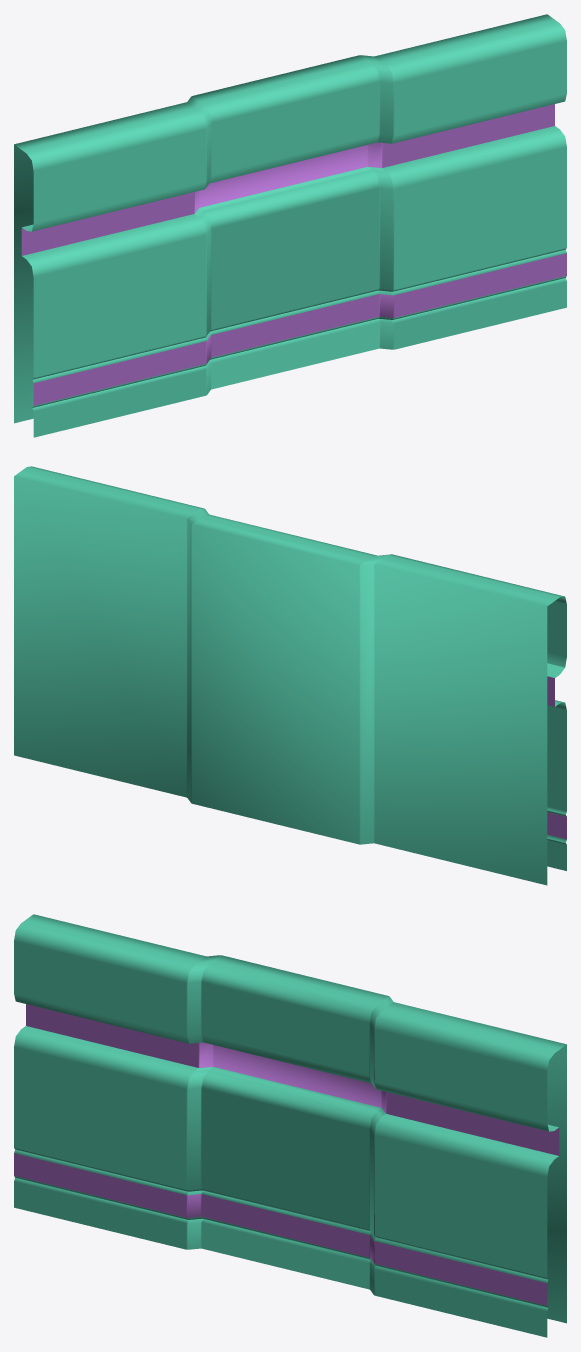
File: Wall_01.FBX
3 views of the same model, one above another, from view 1: azimuth 30°, elevation 25°; view 2: azimuth 150°, elevation 25°; view 3: azimuth 330°, elevation 25° (orthographic).
Parts seen in each view (by area): view 1: Box005; view 2: Box005; view 3: Box005.
Part boxes in pixels (bbox=[...]): Box005: bbox=[14, 14, 566, 437]; Box005: bbox=[14, 466, 566, 885]; Box005: bbox=[14, 914, 566, 1337].
Bounding box in the file's own units: 600 × 300 × 47.86.
